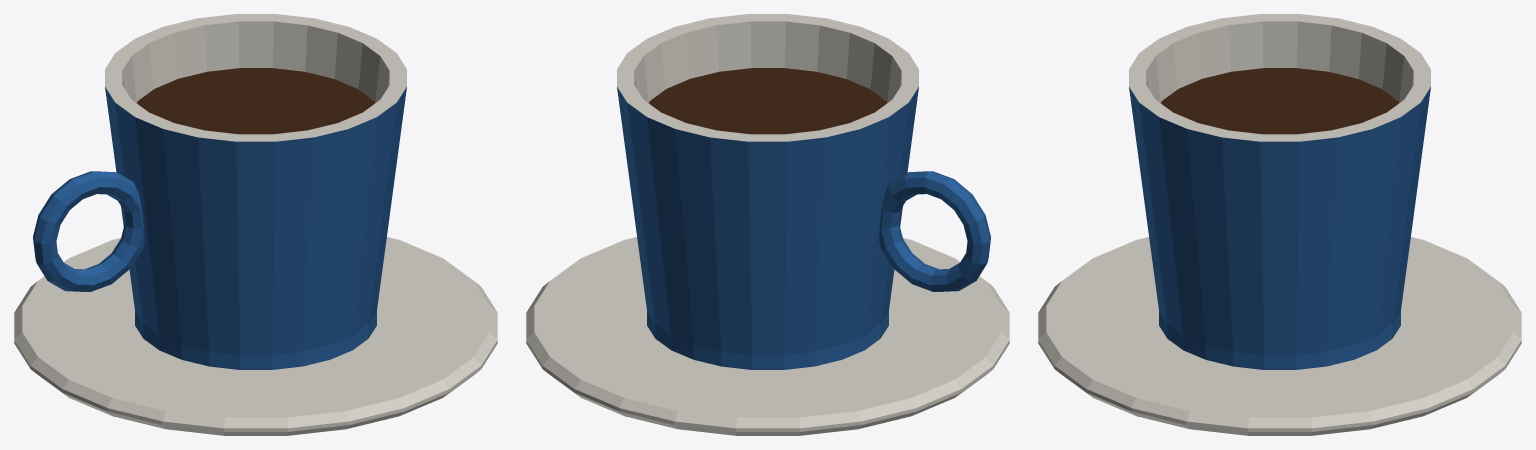
Rendered from mug.glb.
3 renders of one model, left to right at view 1: azimuth 30°, elevation 25°; view 2: azimuth 150°, elevation 25°; view 3: azimuth 270°, elevation 25°, orthographic.
Visible parts, largest first — view 1: cup, saucer, coffee, handle, base; view 2: cup, saucer, coffee, handle, base; view 3: cup, saucer, coffee, base.
Part boxes in pixels (x1,y1,x2,y2): cup: (105, 14, 406, 355); saucer: (14, 237, 497, 435); coffee: (137, 68, 374, 134); handle: (33, 171, 144, 291); base: (135, 311, 376, 369); cup: (617, 14, 918, 355); saucer: (526, 237, 1009, 435); coffee: (649, 68, 886, 134); handle: (879, 171, 990, 291); base: (647, 311, 888, 369); cup: (1129, 14, 1430, 355); saucer: (1038, 237, 1521, 435); coffee: (1161, 68, 1398, 134); base: (1159, 311, 1400, 369).
Bounding box in the file's own units: 1.24 × 0.71 × 1.2.
